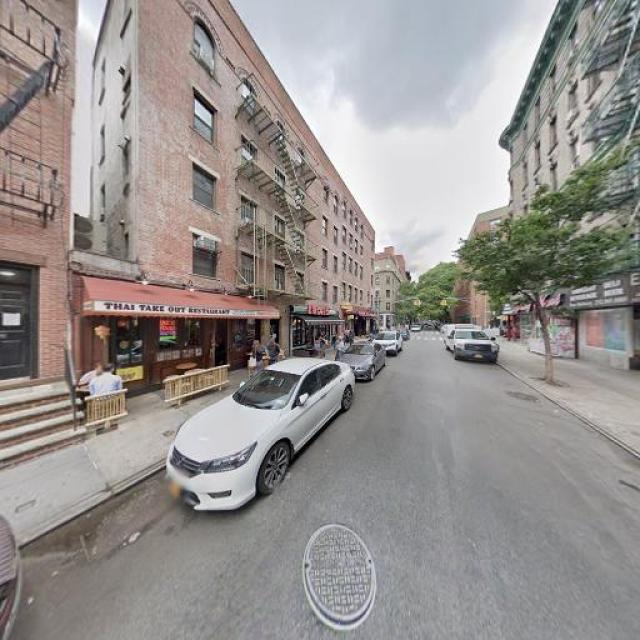Building: (140, 1, 365, 389), (517, 1, 640, 379), (1, 1, 64, 424)
